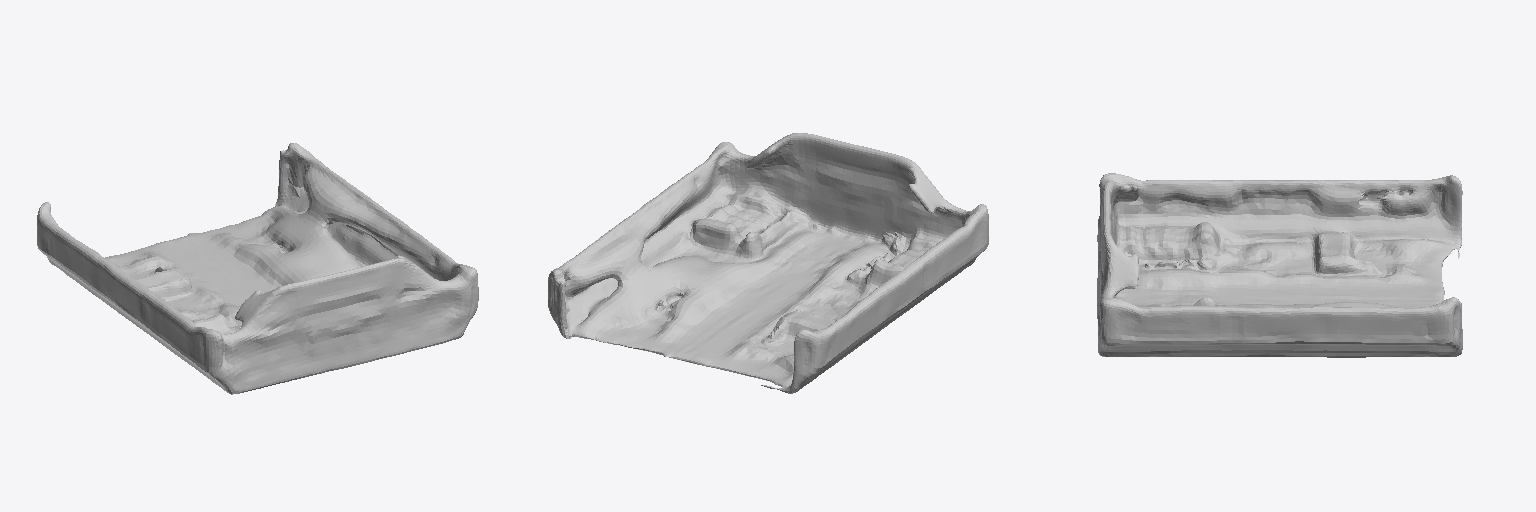
File: a76f344ee279_a_militaristic_plat.obj
The picture shows the model from 3 angles: view 1: azimuth 30°, elevation 25°; view 2: azimuth 150°, elevation 25°; view 3: azimuth 270°, elevation 25°; orthographic projection.
Visible parts, largest first — view 1: mesh; view 2: mesh; view 3: mesh.
Part boxes in pixels (bbox=[...]): mesh: bbox=[37, 143, 478, 394]; mesh: bbox=[548, 133, 988, 393]; mesh: bbox=[1097, 173, 1462, 357].
Bounding box in the file's own units: 0.8584 × 0.2873 × 0.998.